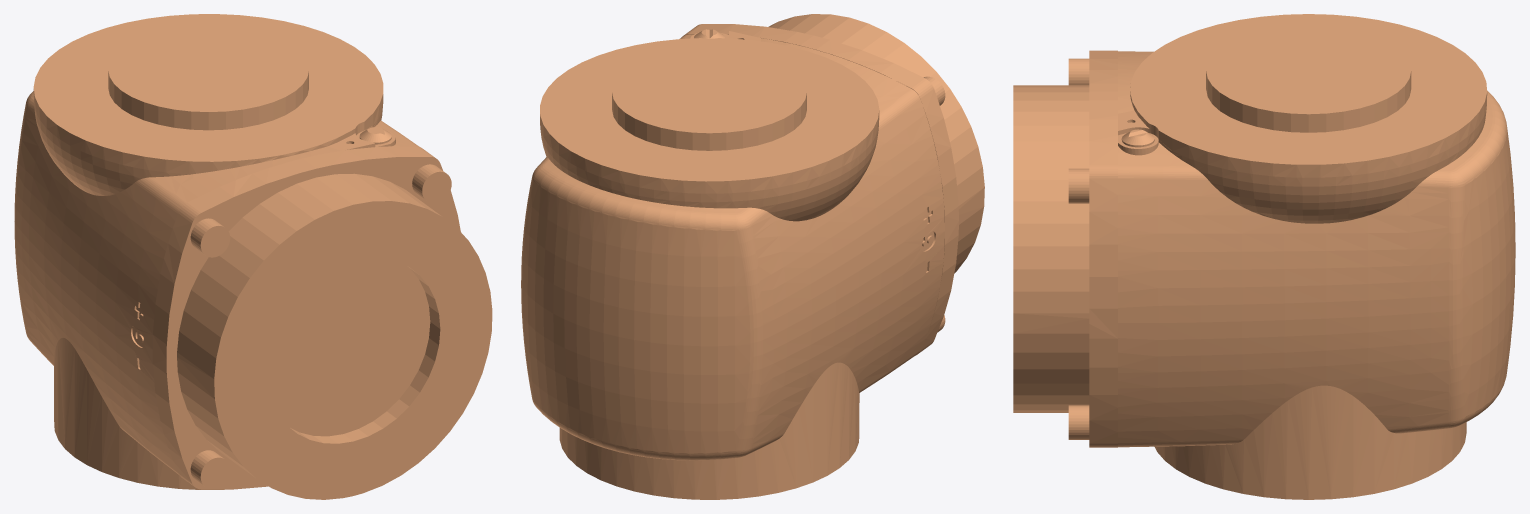
The picture shows the model from 3 angles, left to right: view 1: azimuth 30°, elevation 25°; view 2: azimuth 150°, elevation 25°; view 3: azimuth 270°, elevation 25°; orthographic projection. The views are drawn at different scales.
Parts seen in each view (by area): view 1: /Link5/Link5_002-mesh/0; view 2: /Link5/Link5_002-mesh/0; view 3: /Link5/Link5_002-mesh/0.
Part boxes in pixels (x1,y1,x2,y2): /Link5/Link5_002-mesh/0: (14, 14, 492, 499); /Link5/Link5_002-mesh/0: (521, 14, 984, 499); /Link5/Link5_002-mesh/0: (1013, 14, 1515, 499).
Bounding box in the file's own units: 0.087 × 0.1025 × 0.1225.
